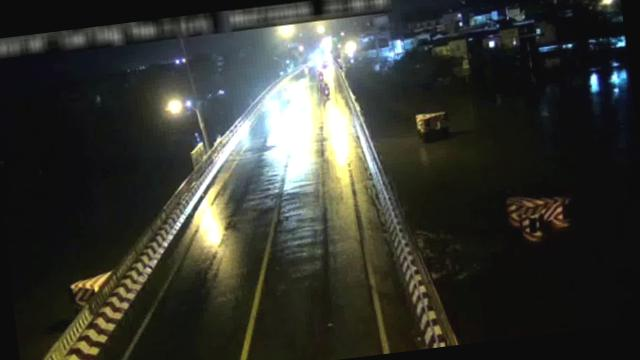Bike: (318, 82, 332, 99)
